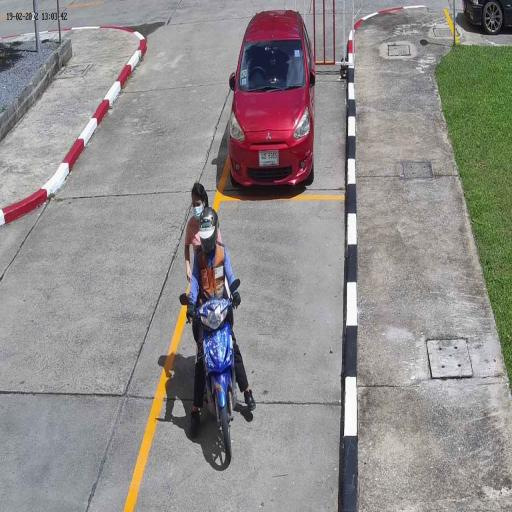car: (226, 8, 318, 188)
motorcycle: (195, 296, 238, 462)
